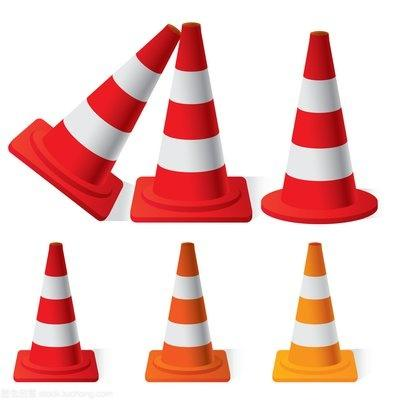cone_barrel: (36, 19, 181, 210), (265, 30, 371, 221), (137, 23, 240, 218), (146, 237, 225, 379), (273, 241, 352, 377), (16, 241, 93, 380)
